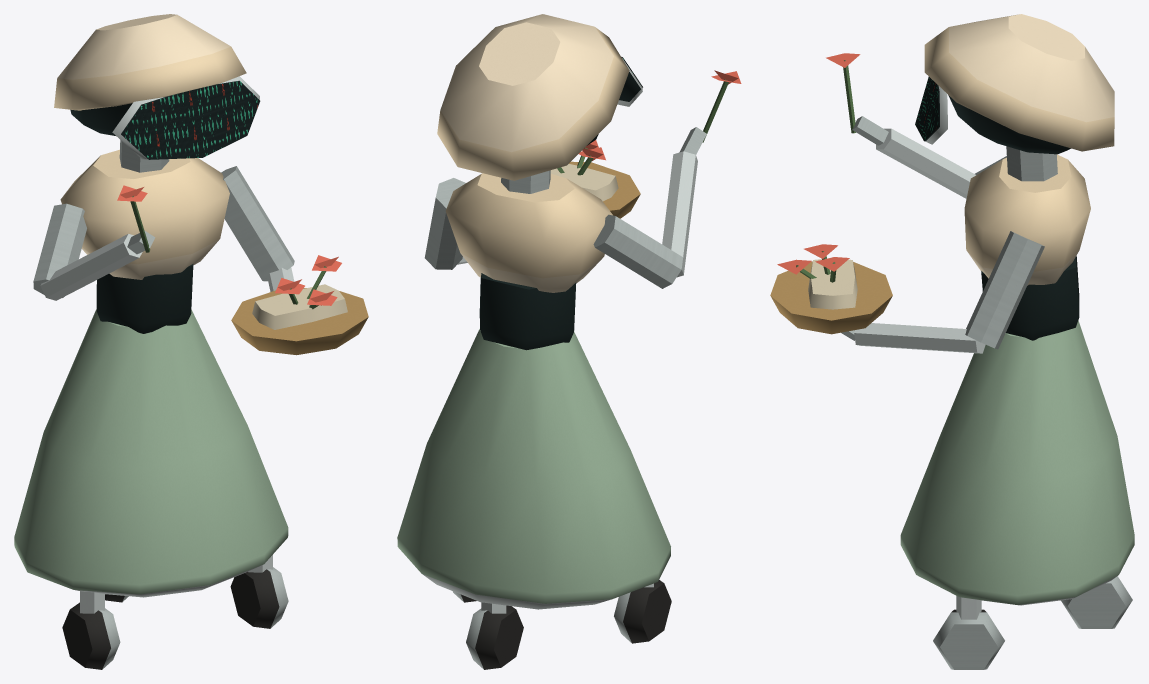
The model's file is Clerk-L2.fbx.
The picture shows the model from 3 angles, left to right: view 1: azimuth 30°, elevation 25°; view 2: azimuth 150°, elevation 25°; view 3: azimuth 270°, elevation 25°; orthographic projection.
Parts seen in each view (by area): view 1: Clerk_Silhouette, Clerk_Head_Face, Clerk_Papers, Clerk_Flowers; view 2: Clerk_Silhouette, Clerk_Papers, Clerk_Flowers; view 3: Clerk_Silhouette, Clerk_Papers, Clerk_Flowers, Clerk_Head_Face.
Boxes of the visible parts, <box> form: Clerk_Silhouette: <box>14,14,368,669</box>; Clerk_Head_Face: <box>121,81,260,159</box>; Clerk_Papers: <box>252,284,347,329</box>; Clerk_Flowers: <box>117,185,341,309</box>; Clerk_Silhouette: <box>397,14,706,669</box>; Clerk_Papers: <box>550,164,618,201</box>; Clerk_Flowers: <box>557,70,741,175</box>; Clerk_Silhouette: <box>770,14,1134,669</box>; Clerk_Papers: <box>808,259,857,309</box>; Clerk_Flowers: <box>777,53,860,282</box>; Clerk_Head_Face: <box>915,76,938,141</box>.
Bounding box in the file's own units: 0.7384 × 1.66 × 0.9073.
2 materials, 2 textured.
